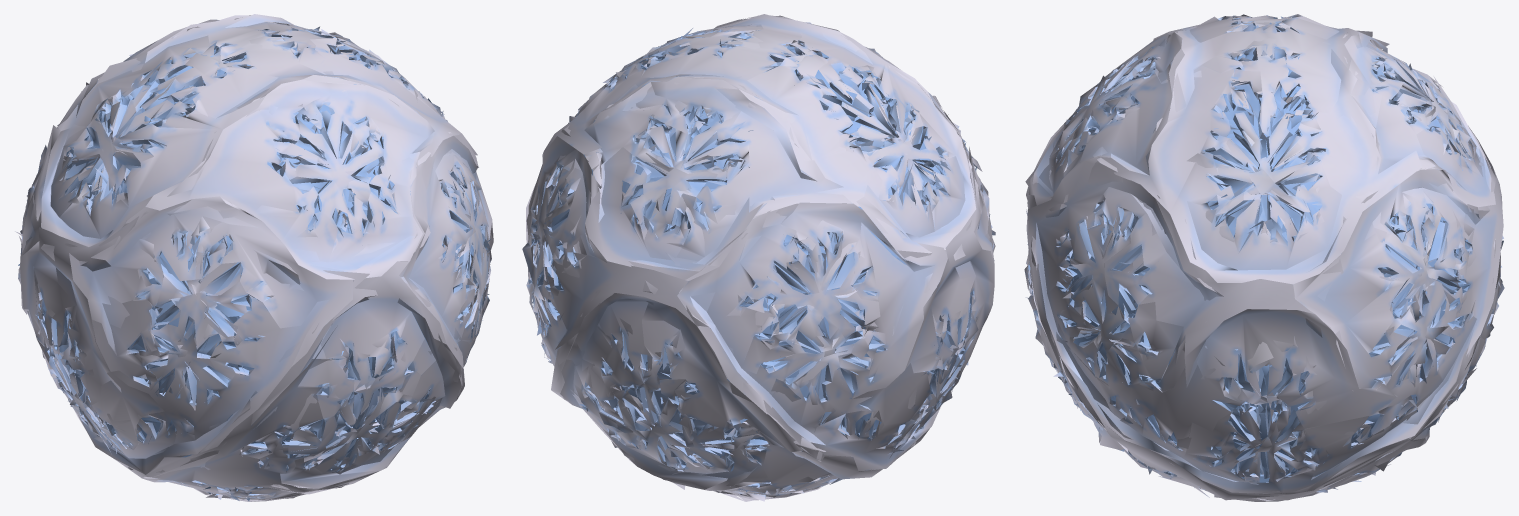
Rendered from frost-snowball-lod.glb.
3 renders of one model, left to right at view 1: azimuth 30°, elevation 25°; view 2: azimuth 150°, elevation 25°; view 3: azimuth 270°, elevation 25°, orthographic. The views are drawn at different scales.
Visible parts, largest first — view 1: world; view 2: world; view 3: world.
Boxes of the visible parts, x1,y1,x2,y2 form: world: [15, 14, 493, 501]; world: [522, 14, 995, 501]; world: [1024, 14, 1504, 501].
Bounding box in the file's own units: 0.1204 × 0.1209 × 0.1204.
Materials: 1 (1 with a texture image).
